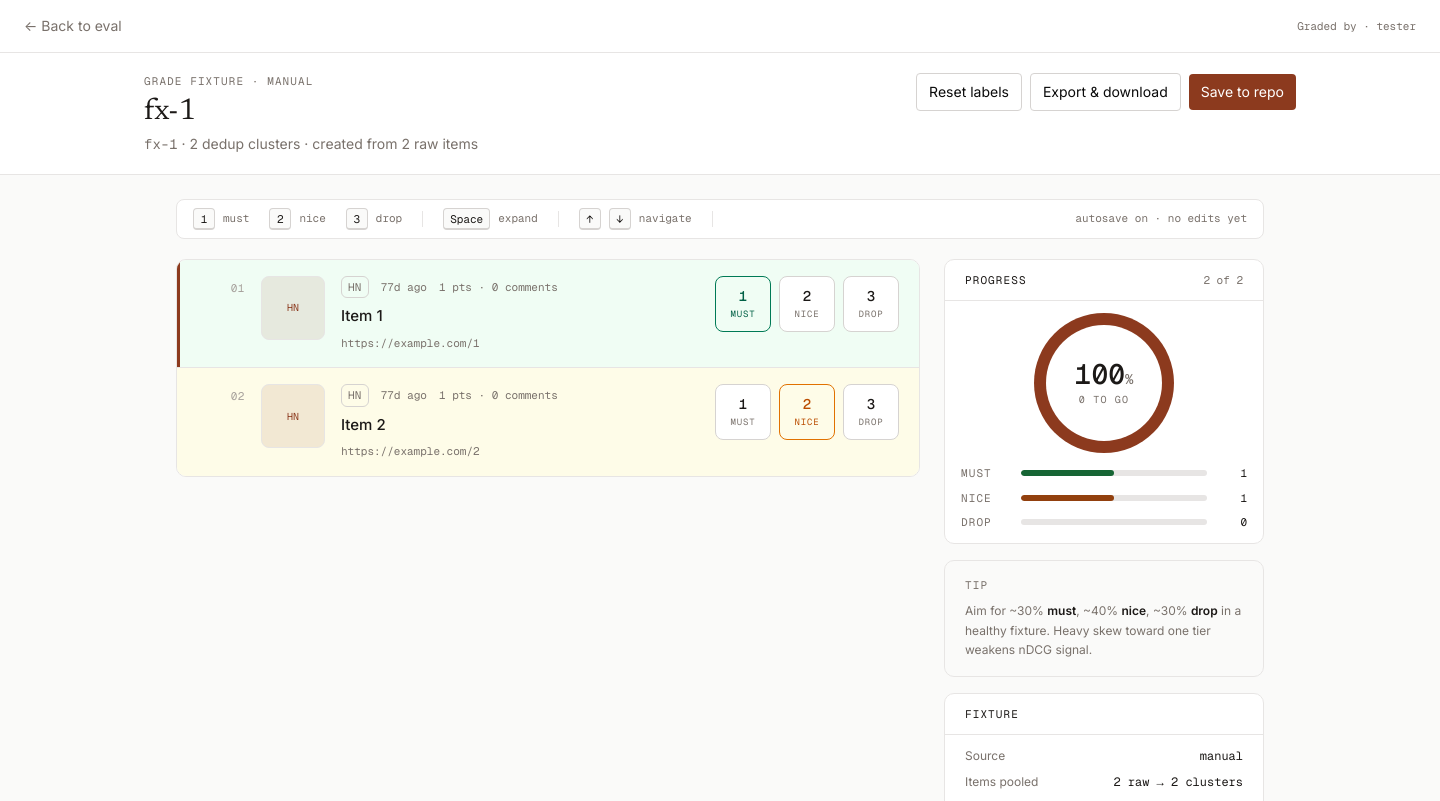
it: EvalGradePage › does NOT navigate when save-to-repo fails (EDGE-1.1)
Step 1. Click the button with test id "save-to-repo-button" → (1242, 92), box [1189,74,1296,110]
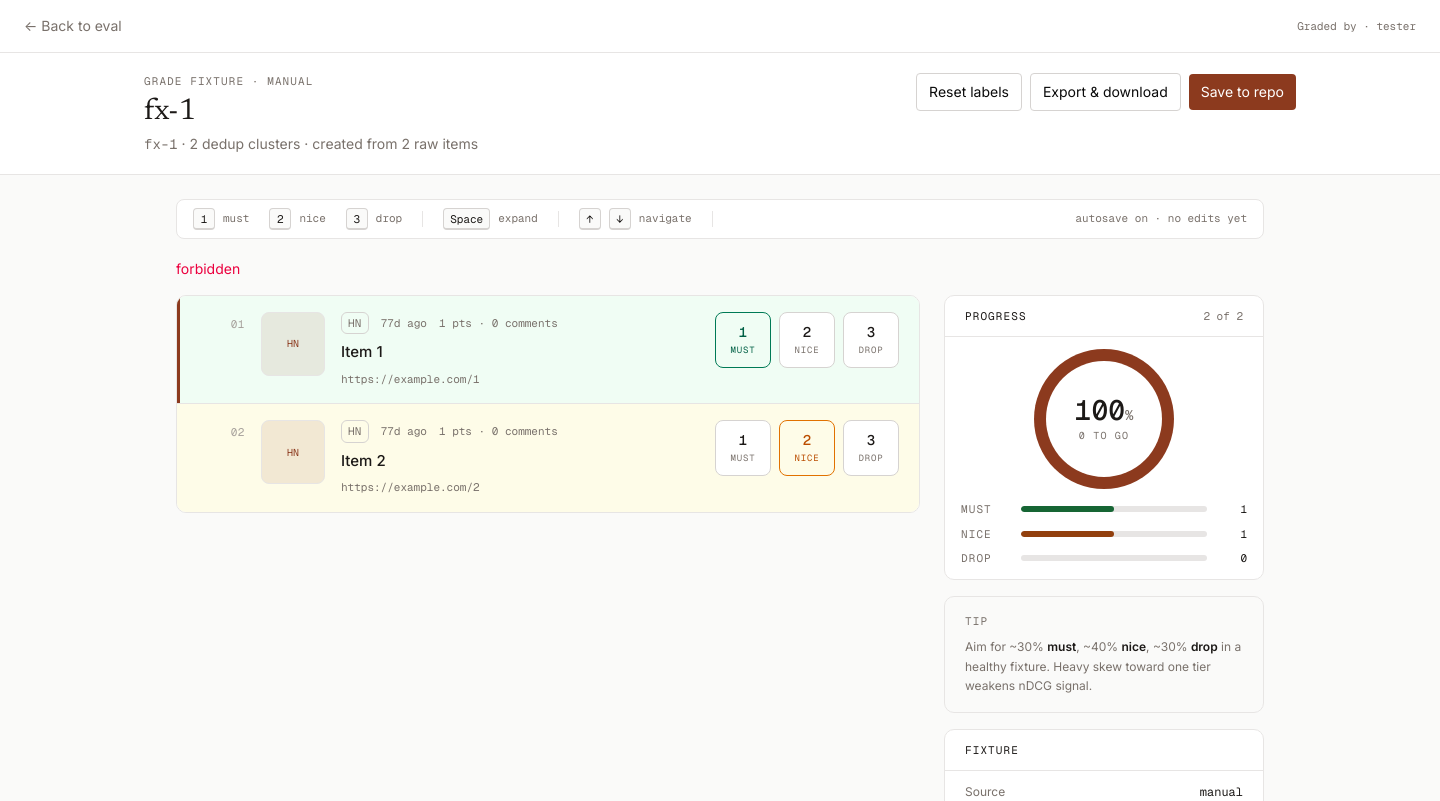
Result: the text "forbidden" is shown at [176,260,240,276]
